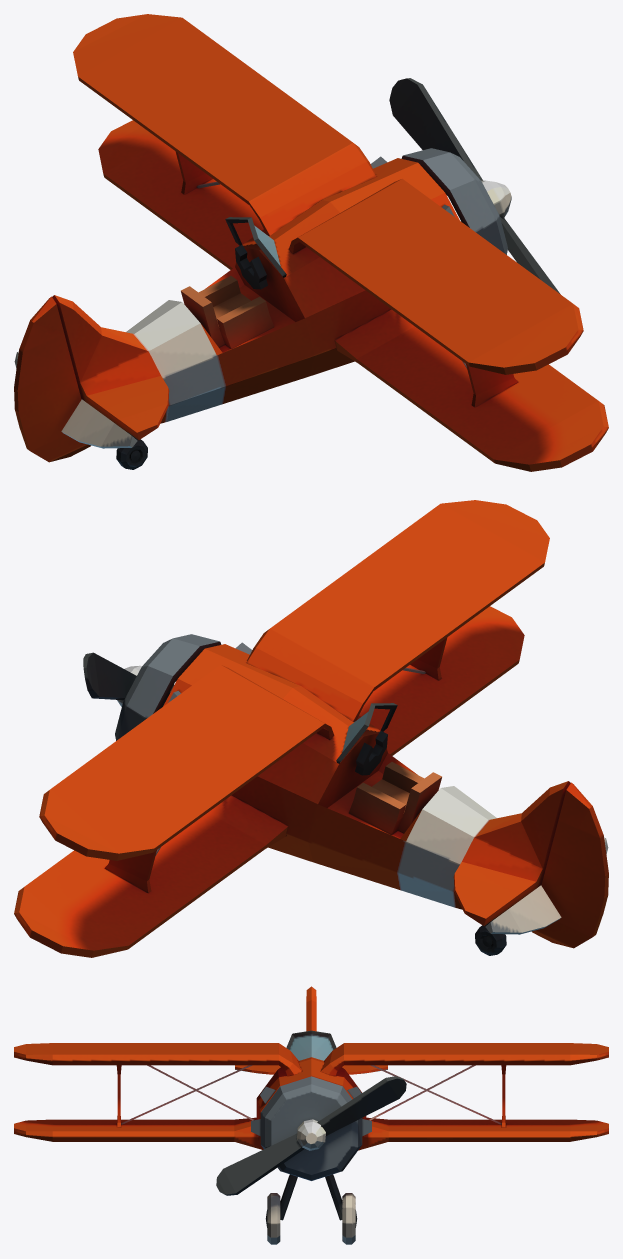
The model's file is PUSHILIN_Plane.gltf.
3 views of the same model, one above another, from view 1: azimuth 30°, elevation 25°; view 2: azimuth 150°, elevation 25°; view 3: azimuth 270°, elevation 25° (orthographic). The views are drawn at different scales.
Parts seen in each view (by area): view 1: PUSHILIN_Plane_Circle.000; view 2: PUSHILIN_Plane_Circle.000; view 3: PUSHILIN_Plane_Circle.000.
Part boxes in pixels (x1,y1,x2,y2): PUSHILIN_Plane_Circle.000: (14, 14, 608, 471); PUSHILIN_Plane_Circle.000: (14, 500, 608, 957); PUSHILIN_Plane_Circle.000: (14, 986, 608, 1244).
Size of the model in its own units: 2.43 by 1.21 by 3.78.
Materials: 1 (1 with a texture image).
